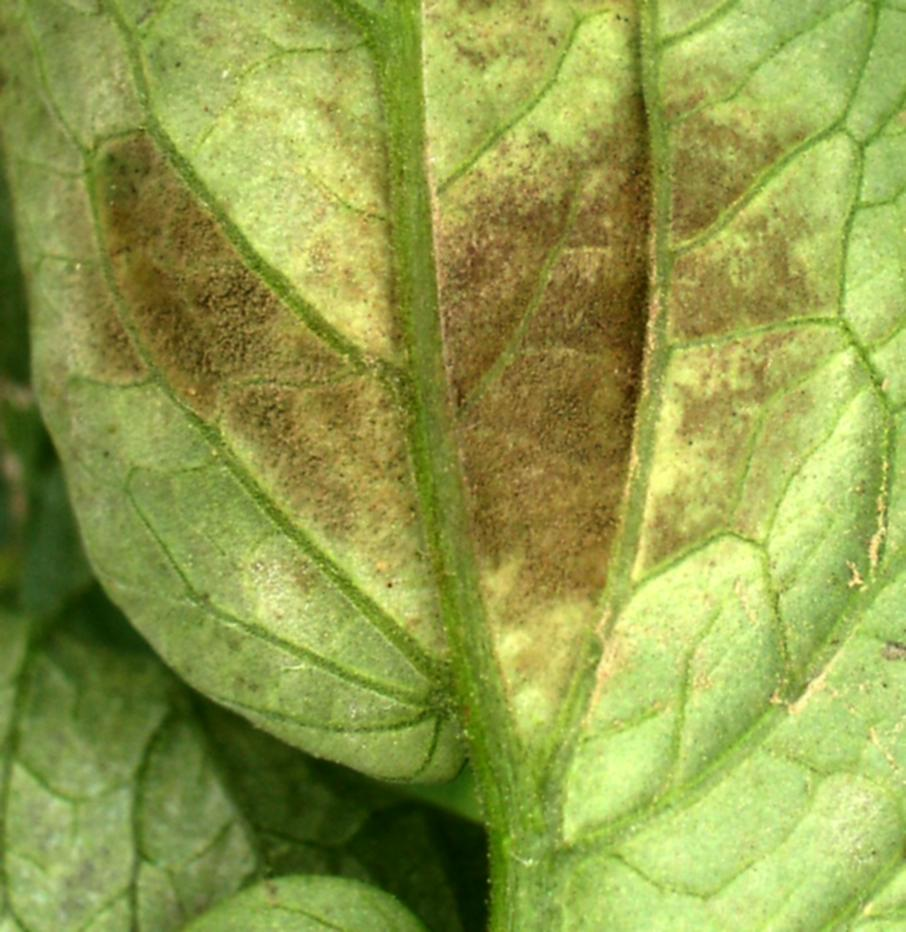Tomato mold leaf: (0, 0, 906, 932), (0, 504, 395, 932)
